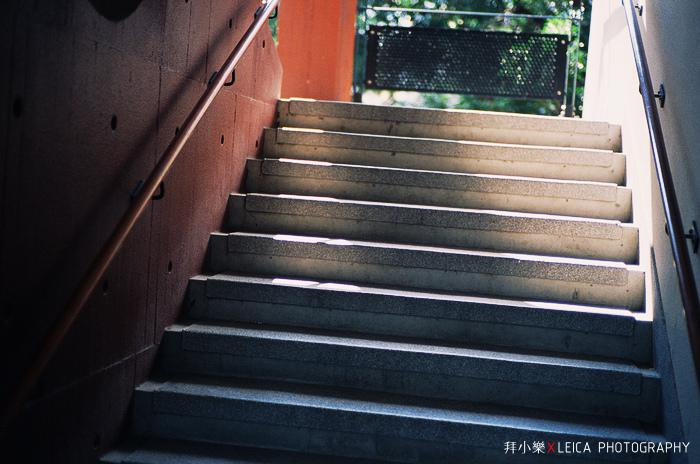stairs: (109, 104, 680, 445)
